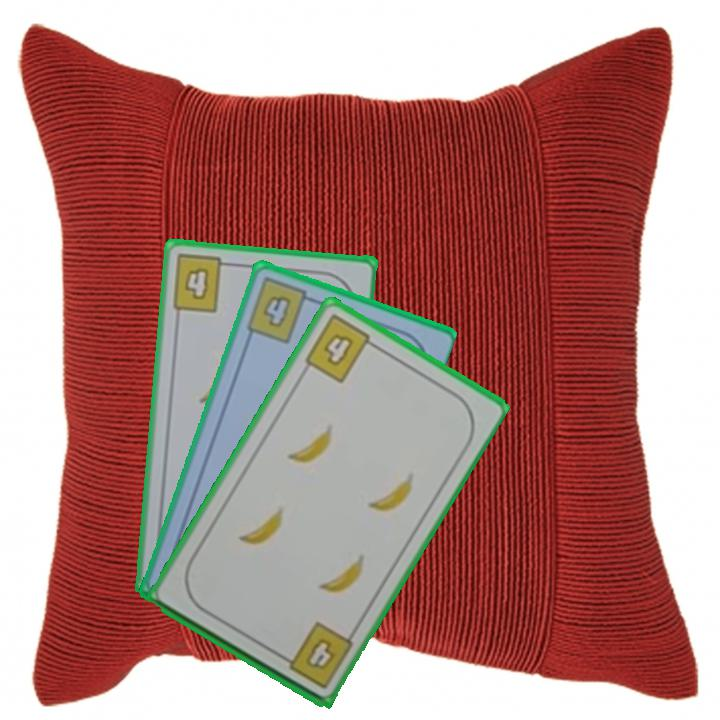4b: (300, 310, 382, 386), (275, 618, 356, 692), (241, 274, 319, 346), (168, 251, 236, 315)
